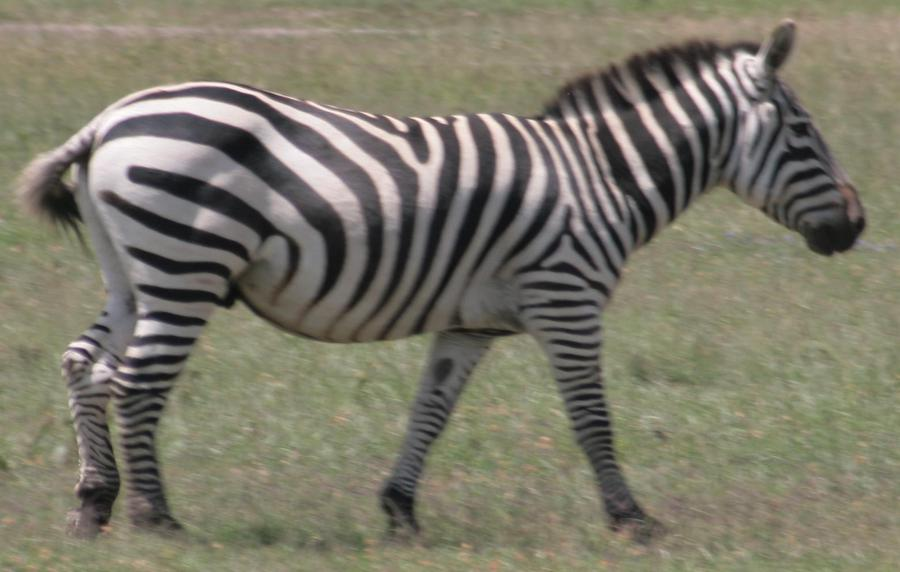zebra_plains: (95, 58, 627, 363)
